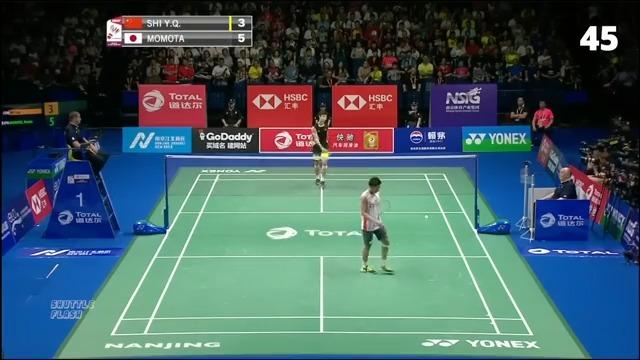Shuttlecock: (421, 210, 432, 224)
